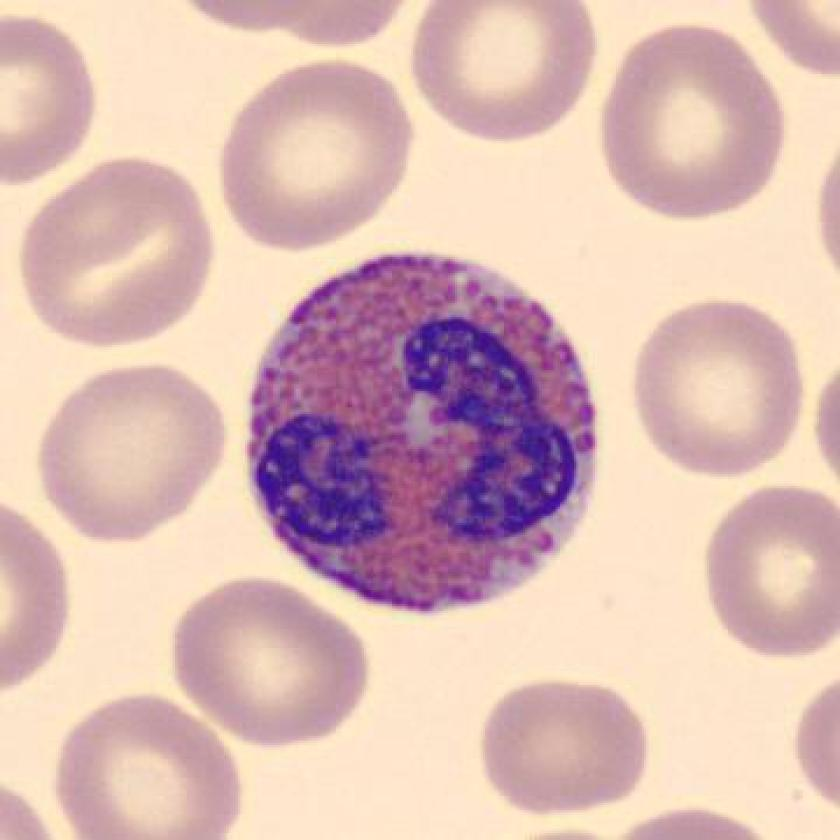eosinophil: (234, 242, 608, 633)
